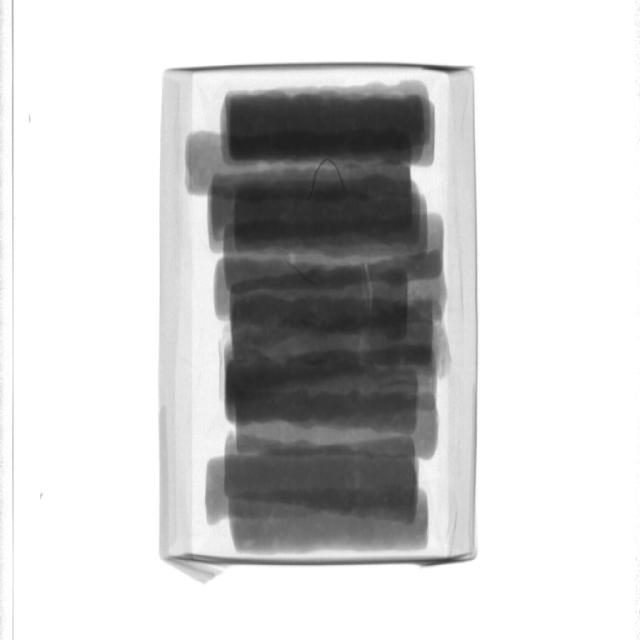ym: (310, 153, 347, 204)
